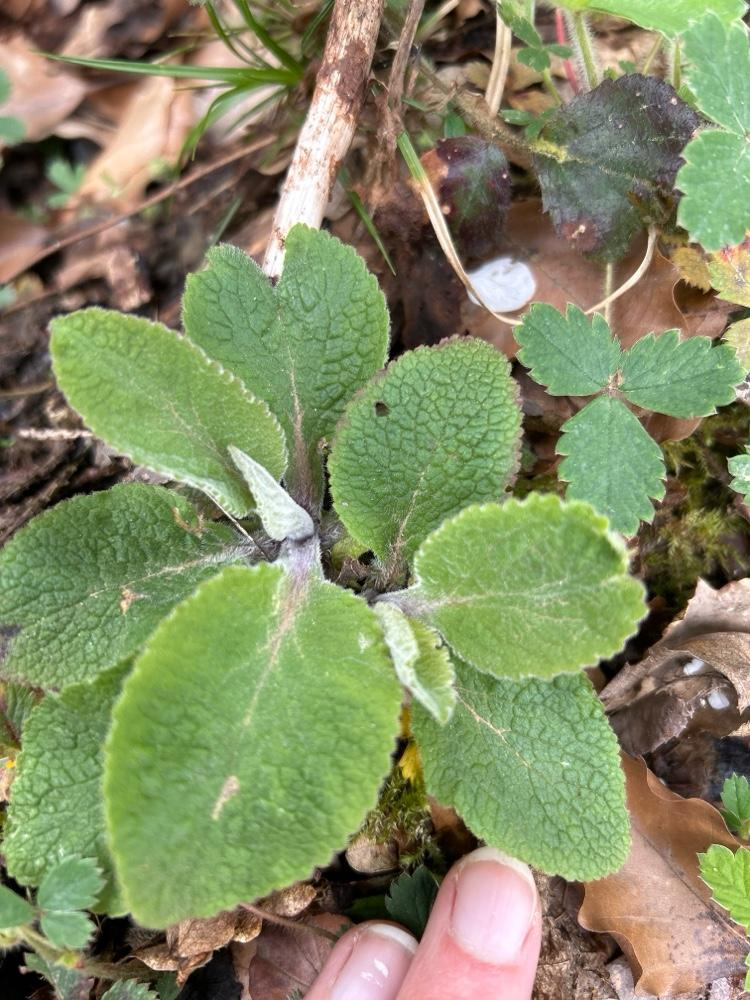Digitalis L: (0, 229, 645, 940)
